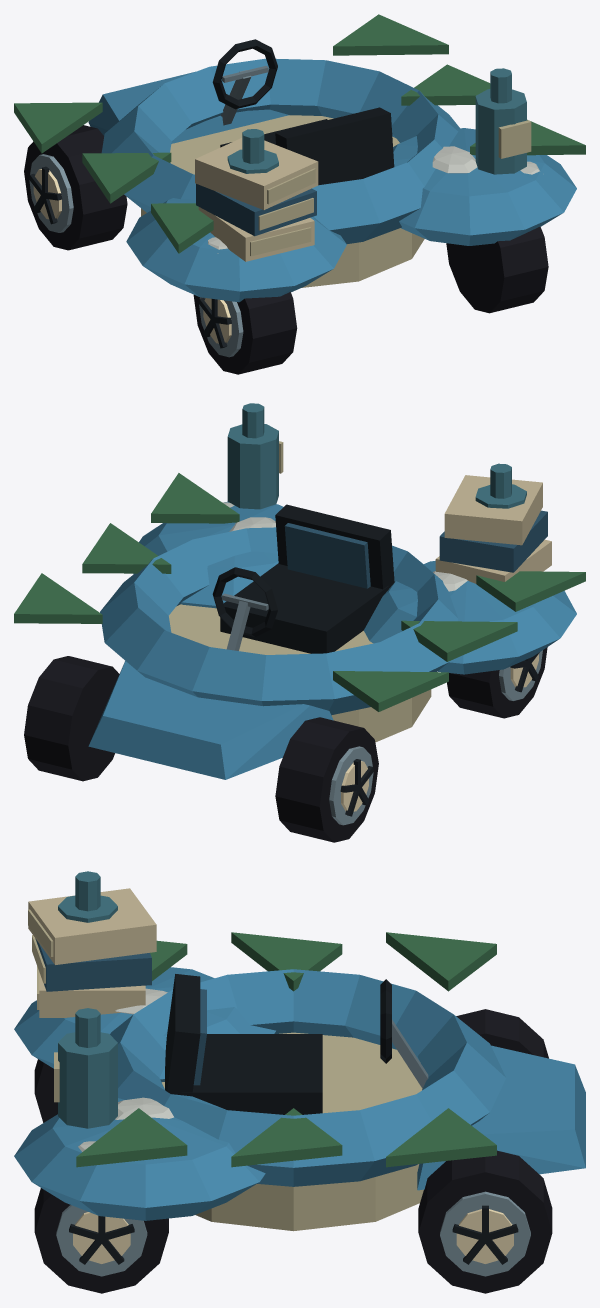
Rendered from kart.glb.
3 views of the same model, one above another, from view 1: azimuth 30°, elevation 25°; view 2: azimuth 150°, elevation 25°; view 3: azimuth 270°, elevation 25° (orthographic). The views are drawn at different scales.
Visible parts, largest first — view 1: identity-mushroom-mushroom-cap-fenders, identity-mushroom-motif-leaves, identity-mushroom-motif-books, identity-mushroom-driver-cockpit, wheel-front-left, wheel-rear-left, identity-mushroom-motif-bottles, wheel-rear-right; view 2: identity-mushroom-mushroom-cap-fenders, identity-mushroom-driver-cockpit, identity-mushroom-motif-leaves, wheel-front-left, identity-mushroom-motif-books, wheel-front-right, identity-mushroom-motif-bottles, wheel-rear-left; view 3: identity-mushroom-mushroom-cap-fenders, identity-mushroom-motif-leaves, identity-mushroom-driver-cockpit, wheel-front-right, identity-mushroom-motif-books, wheel-rear-right, identity-mushroom-motif-bottles, wheel-front-left, wheel-rear-left.
Boxes of the visible parts, x1=… form: identity-mushroom-mushroom-cap-fenders: x1=88, y1=58, x2=576, y2=302; identity-mushroom-motif-leaves: x1=14, y1=14, x2=585, y2=253; identity-mushroom-motif-books: x1=195, y1=138, x2=318, y2=261; identity-mushroom-driver-cockpit: x1=212, y1=39, x2=394, y2=185; wheel-front-left: x1=24, y1=125, x2=127, y2=250; wheel-rear-left: x1=193, y1=292, x2=297, y2=374; identity-mushroom-motif-bottles: x1=227, y1=68, x2=531, y2=174; wheel-rear-right: x1=446, y1=226, x2=548, y2=313; identity-mushroom-mushroom-cap-fenders: x1=88, y1=501, x2=576, y2=779; identity-mushroom-driver-cockpit: x1=212, y1=504, x2=394, y2=653; identity-mushroom-motif-leaves: x1=14, y1=473, x2=585, y2=711; wheel-front-left: x1=275, y1=717, x2=378, y2=842; identity-mushroom-motif-books: x1=435, y1=475, x2=551, y2=583; wheel-front-right: x1=24, y1=656, x2=119, y2=781; identity-mushroom-motif-bottles: x1=227, y1=403, x2=526, y2=509; wheel-rear-left: x1=447, y1=647, x2=547, y2=718; identity-mushroom-mushroom-cap-fenders: x1=14, y1=967, x2=585, y2=1231; identity-mushroom-motif-leaves: x1=76, y1=932, x2=496, y2=1167; identity-mushroom-driver-cockpit: x1=165, y1=974, x2=428, y2=1114; wheel-front-right: x1=418, y1=1150, x2=552, y2=1293; identity-mushroom-motif-books: x1=28, y1=888, x2=156, y2=1017; wheel-rear-right: x1=34, y1=1188, x2=168, y2=1293; identity-mushroom-motif-bottles: x1=54, y1=871, x2=117, y2=1128; wheel-front-left: x1=456, y1=1009, x2=548, y2=1058; wheel-rear-left: x1=34, y1=1059, x2=57, y2=1122.
Size of the model in its own units: 2.36 by 1.27 by 2.48.
